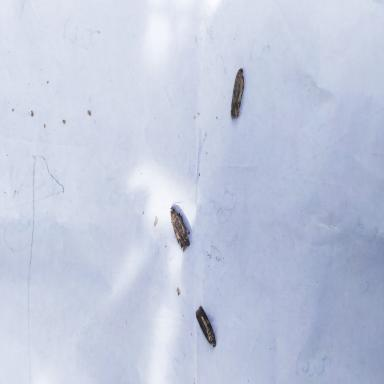pbw: (170, 206, 190, 252), (196, 305, 217, 348), (231, 68, 244, 120)
